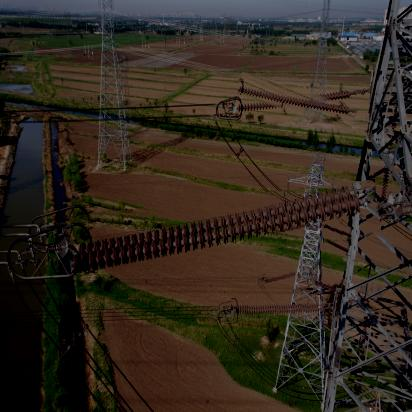insulator: (66, 190, 381, 265), (237, 81, 359, 123), (232, 301, 324, 320), (313, 276, 337, 295), (265, 272, 299, 283)
